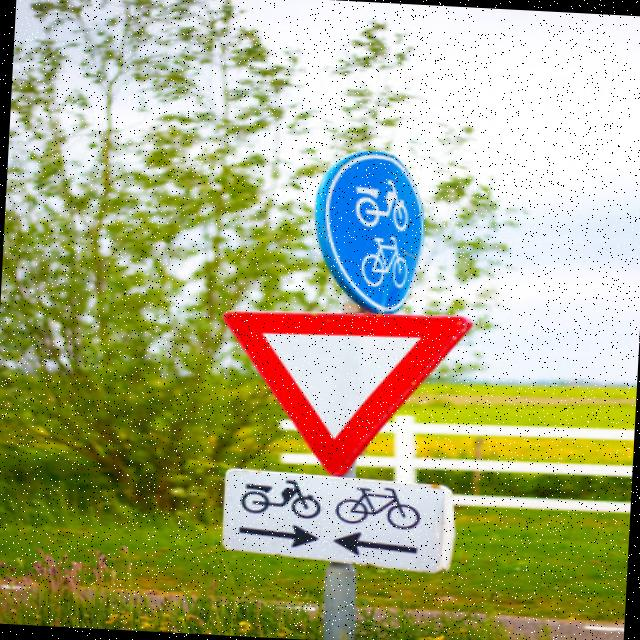give_way: (182, 290, 486, 480)
